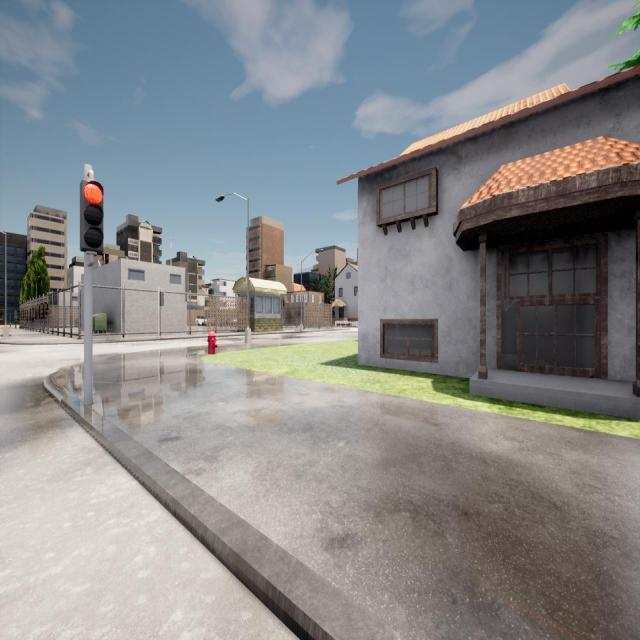Pedestrian: (14, 314, 18, 329)
Vehicle: (195, 316, 207, 326)
traffic_light: (81, 182, 104, 250), (160, 292, 164, 306)
